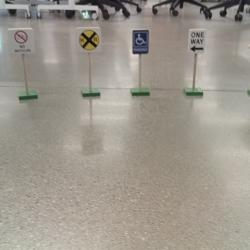handicap_parking: (132, 29, 150, 55)
no_bicycle: (7, 27, 34, 54)
one_way: (188, 29, 205, 53)
railroad_crossing: (76, 27, 102, 53)
